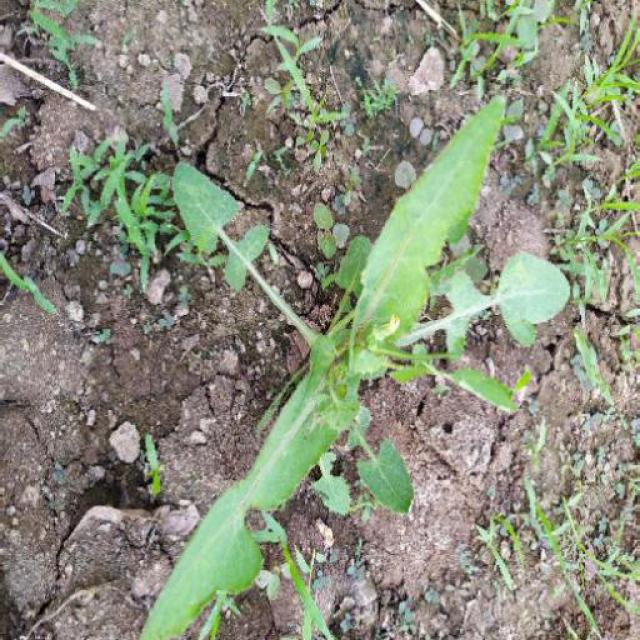weed: (102, 72, 580, 630)
